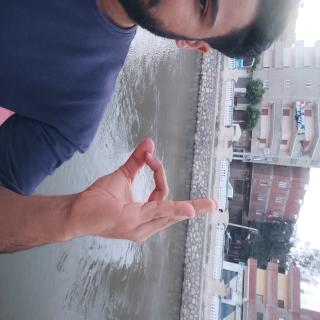Space: (104, 141, 187, 320)
